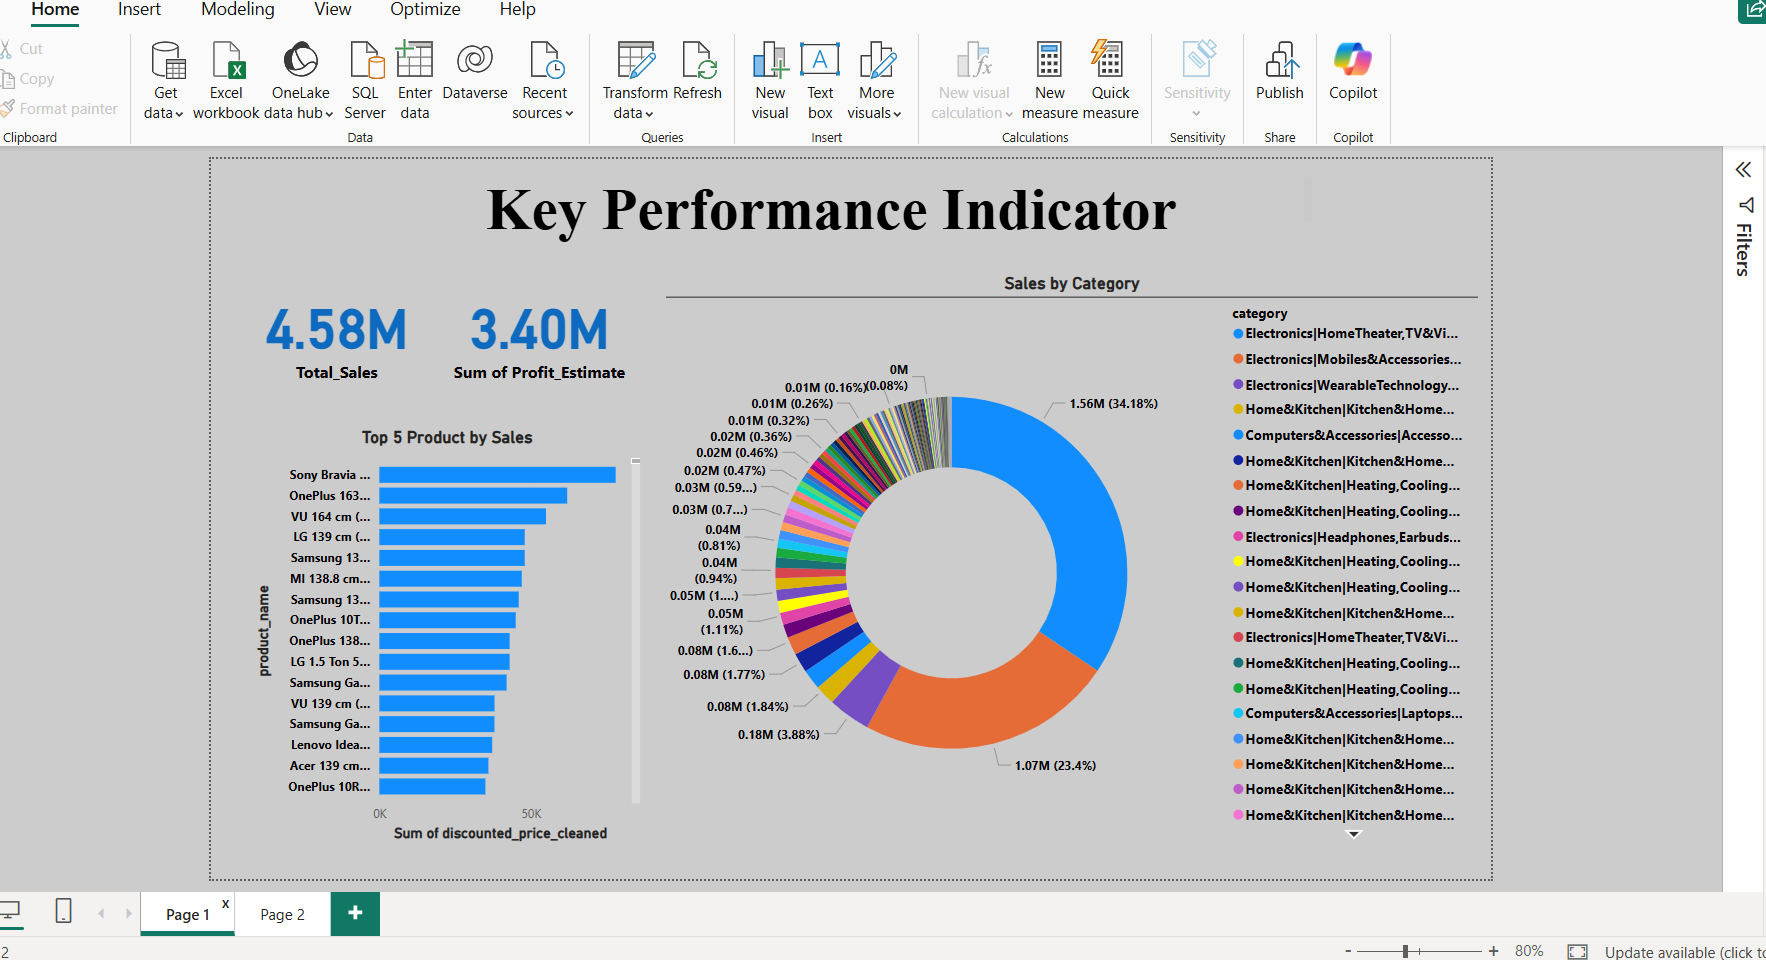

What the dashboard file says about the page in this screenshot:
{"tool":"powerbi","page":{"name":"Page 1","canvas":[1280,720],"ordinal":0},"visuals":[{"type":"card","fields":{"Values":["Sum(amazon_cleaned.discounted_price_cleaned)"]},"box":[38.4,113.9,174.3,120.8],"z":0},{"type":"card","fields":{"Values":["Sum(amazon_cleaned.Profit_Estimate)"]},"box":[223.7,113.9,209.9,120.8],"z":1000},{"type":"barChart","title":"Top 5 Product by Sales","fields":{"Category":["amazon_cleaned.product_name"],"Y":["Sum(amazon_cleaned.discounted_price_cleaned)"]},"box":[38.4,267.6,395.2,419.9],"z":2000},{"type":"textbox","box":[142.7,12.3,963.3,87.8],"z":3000},{"type":"donutChart","title":"Sales by Category","fields":{"Category":["amazon_cleaned.category"],"Y":["Sum(amazon_cleaned.discounted_price_cleaned)"]},"box":[455.6,113.9,812.4,573.6],"z":4000}]}

Visuals, with their boxes on the page's 1280x720 design canvas (x1, y1, x2, y2). These are canvas units, not pixel positions in the 1766x960 screenshot, which may show the page scaled, cropped or inside an application window:
card - Sum(amazon_cleaned.discounted_price_cleaned): x1=38 y1=114 x2=213 y2=235
card - Sum(amazon_cleaned.Profit_Estimate): x1=224 y1=114 x2=434 y2=235
"Top 5 Product by Sales" barChart: x1=38 y1=268 x2=434 y2=688
textbox: x1=143 y1=12 x2=1106 y2=100
"Sales by Category" donutChart: x1=456 y1=114 x2=1268 y2=688
